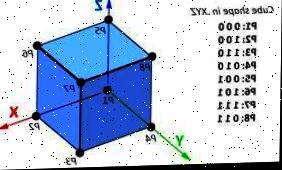cube: (35, 20, 152, 152)
